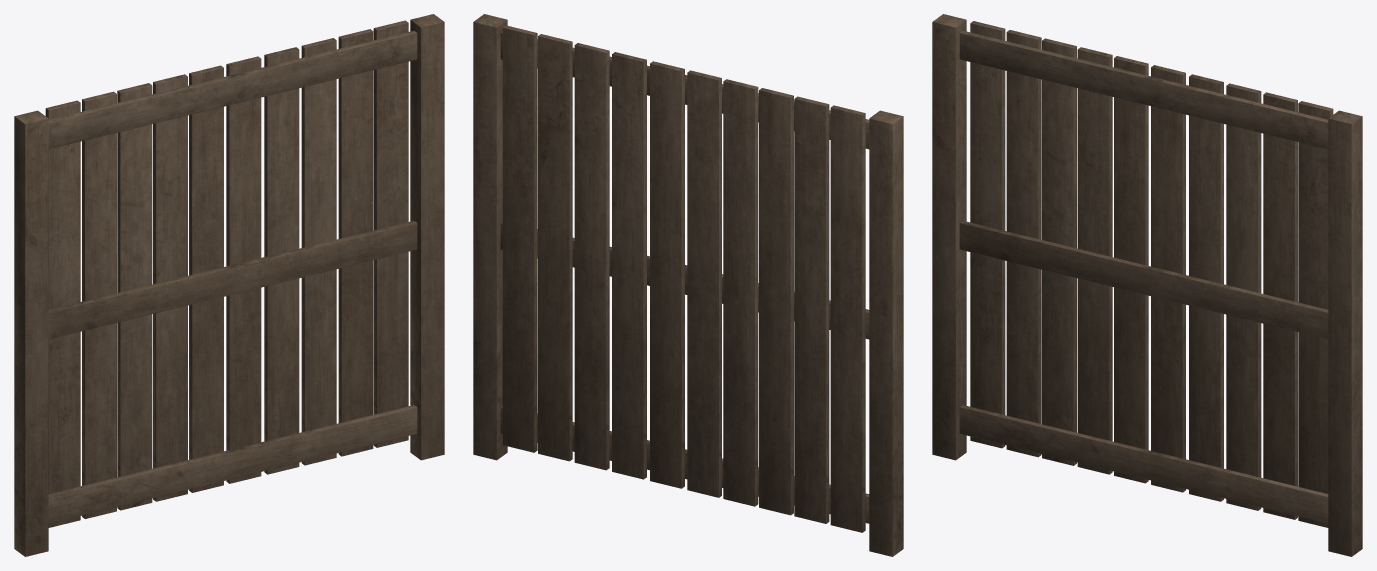
Rendered from fence.glb.
3 views of the same model, side by side, from view 1: azimuth 30°, elevation 25°; view 2: azimuth 150°, elevation 25°; view 3: azimuth 330°, elevation 25° (orthographic).
Visible parts, largest first — view 1: Wooden Fence Slats.001; view 2: Wooden Fence Slats.001; view 3: Wooden Fence Slats.001.
Boxes of the visible parts, left/top/right/bottom form: Wooden Fence Slats.001: left=14, top=14, right=444, bottom=556; Wooden Fence Slats.001: left=473, top=14, right=903, bottom=556; Wooden Fence Slats.001: left=932, top=14, right=1362, bottom=556.
Bounding box in the file's own units: 1.51 × 1.49 × 0.068.
1 material, 1 textured.
